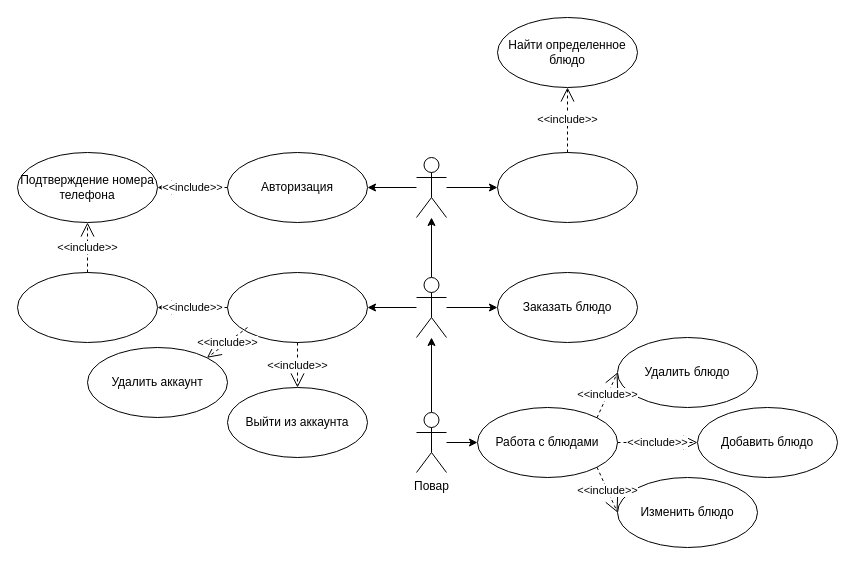
This 855x565 diagram has some shape labels left out. Each missing label, with the centre of its shape:
"Авторизованный" goes at point 431,307.
"Гость" goes at point 431,187.
"Изменить пароль" goes at point 87,307.
"Просмотреть список блюд" goes at point 567,187.
"Редактировать профиль" goes at point 297,307.
